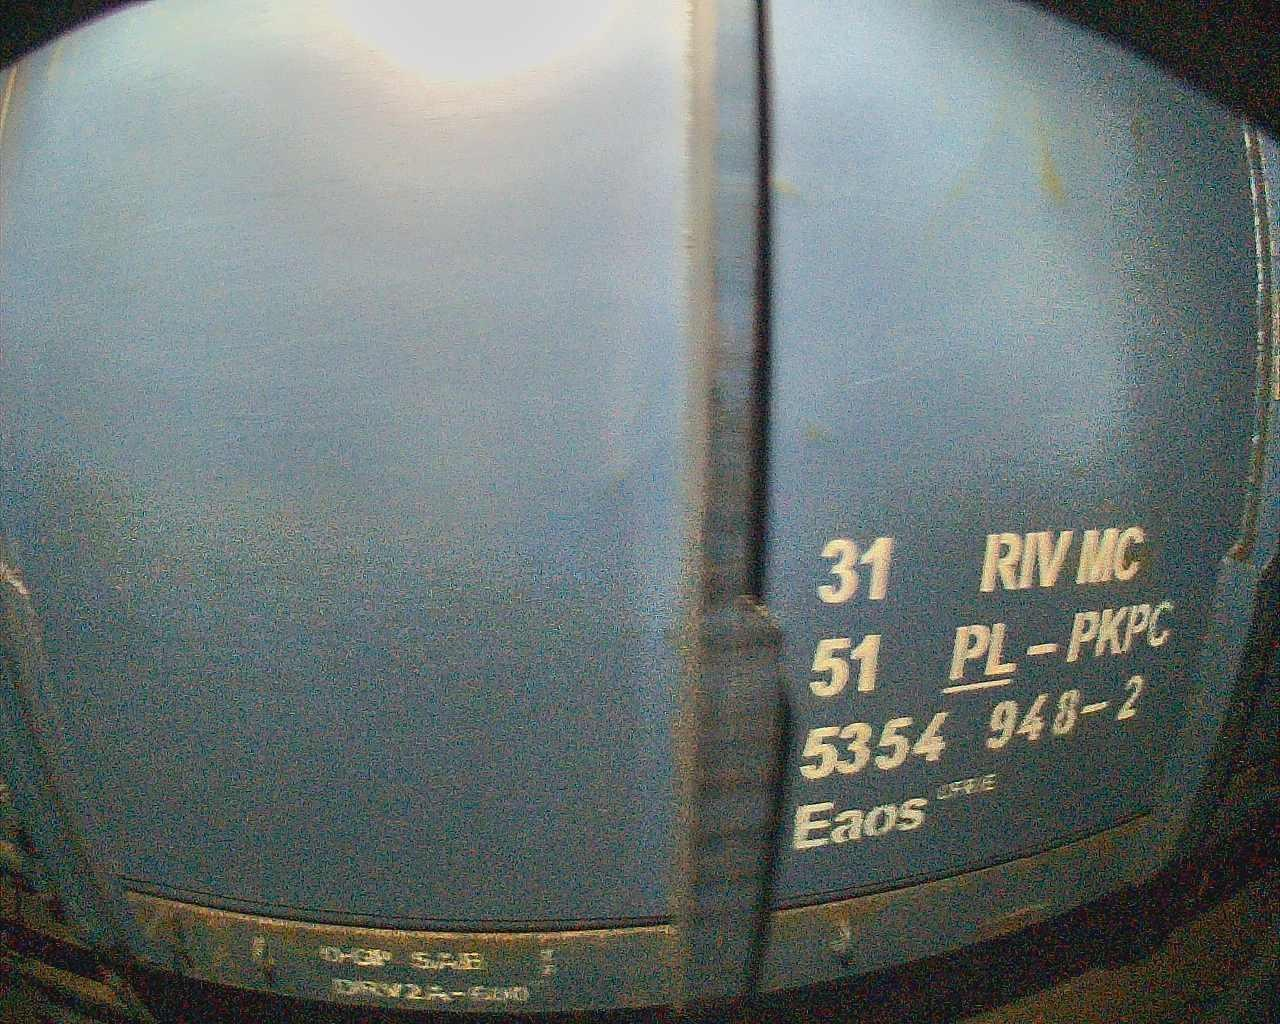UIC: (793, 522, 1174, 851)
